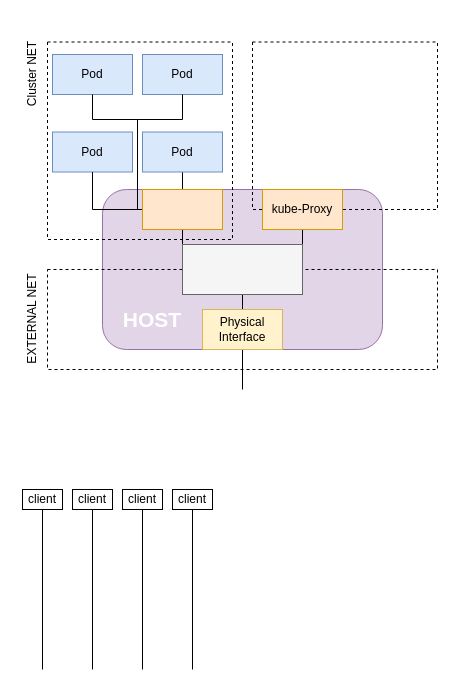
This 455x688 diagram has some shape labels left out. Here are the shapes that lost their labels. From the top down, the box of each, then its label:
(142, 188, 222, 230): CNI Interface
(182, 244, 302, 294): IPTables (Port Forwarding)
